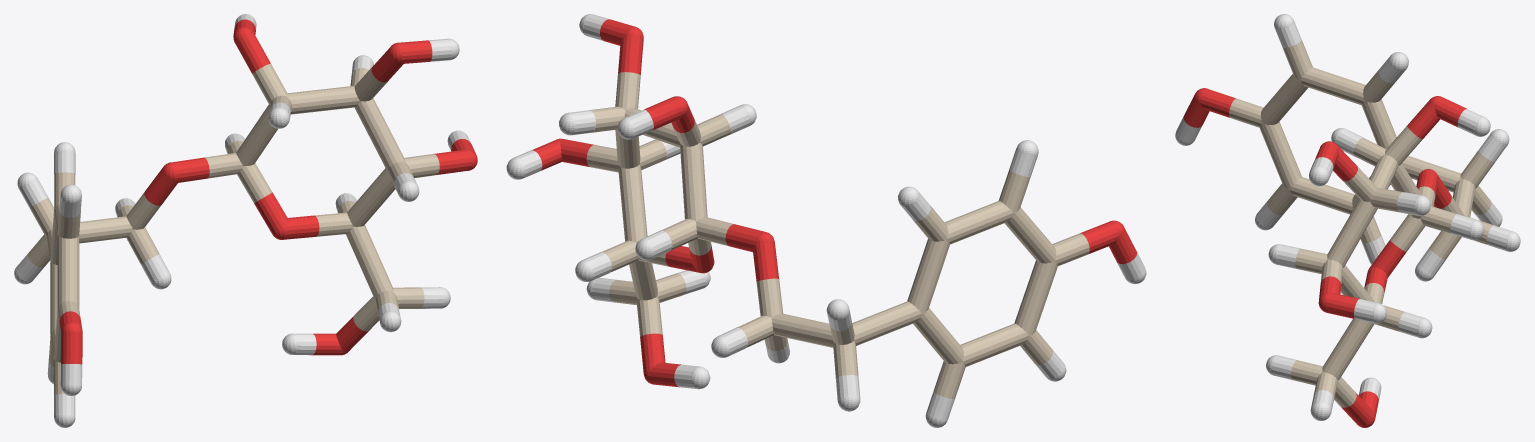
The model's file is salidroside.fbx.
The picture shows the model from 3 angles, left to right: view 1: azimuth 30°, elevation 25°; view 2: azimuth 150°, elevation 25°; view 3: azimuth 270°, elevation 25°; orthographic projection. The views are drawn at different scales.
Parts seen in each view (by area): view 1: Shape_Cylinder.038, Shape_Cylinder.028, Shape_Cylinder.068, Shape_Cylinder.029, Shape_Cylinder.032, Shape_Cylinder.035, Shape_Cylinder.047, Shape_Cylinder.016, Shape_Cylinder.002, Shape_Cylinder.003, Shape_Cylinder.017, Shape_Cylinder.004 (+28 smaller); view 2: Shape_Cylinder.035, Shape_Cylinder.032, Shape_Cylinder.065, Shape_Cylinder.058, Shape_Cylinder.052, Shape_Cylinder.059, Shape_Cylinder.062, Shape_Cylinder.047, Shape_Cylinder.068, Shape_Cylinder.057, Shape_Cylinder.038, Shape_Cylinder.006 (+26 smaller); view 3: Shape_Cylinder.028, Shape_Cylinder.065, Shape_Cylinder.038, Shape_Cylinder.062, Shape_Cylinder.059, Shape_Cylinder.068, Shape_Cylinder.058, Shape_Cylinder.052, Shape_Cylinder.003, Shape_Cylinder.017, Shape_Cylinder.069, Shape_Cylinder.025 (+50 smaller).
Part boxes in pixels (<box>): Shape_Cylinder.038: <box>346,225,393,298</box>; Shape_Cylinder.028: <box>354,98,404,170</box>; Shape_Cylinder.068: <box>57,234,79,307</box>; Shape_Cylinder.029: <box>287,85,359,114</box>; Shape_Cylinder.032: <box>347,168,395,226</box>; Shape_Cylinder.035: <box>236,104,277,166</box>; Shape_Cylinder.047: <box>79,216,133,243</box>; Shape_Cylinder.016: <box>235,32,270,73</box>; Shape_Cylinder.002: <box>254,192,287,234</box>; Shape_Cylinder.003: <box>237,163,272,203</box>; Shape_Cylinder.017: <box>252,63,287,105</box>; Shape_Cylinder.004: <box>173,157,209,182</box>; Shape_Cylinder.035: <box>680,142,707,221</box>; Shape_Cylinder.032: <box>618,165,647,242</box>; Shape_Cylinder.065: <box>1014,260,1057,335</box>; Shape_Cylinder.058: <box>907,238,949,313</box>; Shape_Cylinder.052: <box>852,301,922,345</box>; Shape_Cylinder.059: <box>960,323,1029,366</box>; Shape_Cylinder.062: <box>945,201,1013,244</box>; Shape_Cylinder.047: <box>771,313,833,347</box>; Shape_Cylinder.068: <box>1004,207,1056,263</box>; Shape_Cylinder.057: <box>913,308,963,364</box>; Shape_Cylinder.038: <box>629,260,657,300</box>; Shape_Cylinder.006: <box>753,241,778,281</box>; Shape_Cylinder.028: <box>1327,199,1377,267</box>; Shape_Cylinder.065: <box>1259,122,1301,189</box>; Shape_Cylinder.038: <box>1322,319,1374,380</box>; Shape_Cylinder.062: <box>1300,67,1365,105</box>; Shape_Cylinder.059: <box>1289,177,1354,214</box>; Shape_Cylinder.068: <box>1261,74,1308,125</box>; Shape_Cylinder.058: <box>1361,99,1396,148</box>; Shape_Cylinder.052: <box>1402,156,1461,192</box>; Shape_Cylinder.003: <box>1390,214,1425,251</box>; Shape_Cylinder.017: <box>1385,126,1422,165</box>; Shape_Cylinder.069: <box>1282,40,1312,79</box>; Shape_Cylinder.025: <box>1229,98,1263,127</box>.
Size of the model in its own units: 1073 by 639 by 659.
